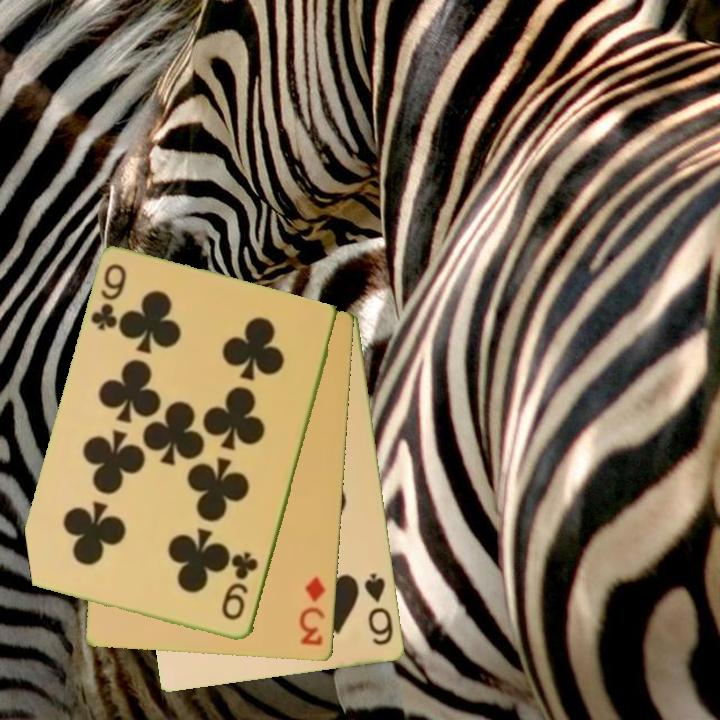3d: (296, 574, 329, 649)
6s: (361, 570, 397, 649)
9c: (218, 549, 261, 624), (87, 260, 130, 335)
